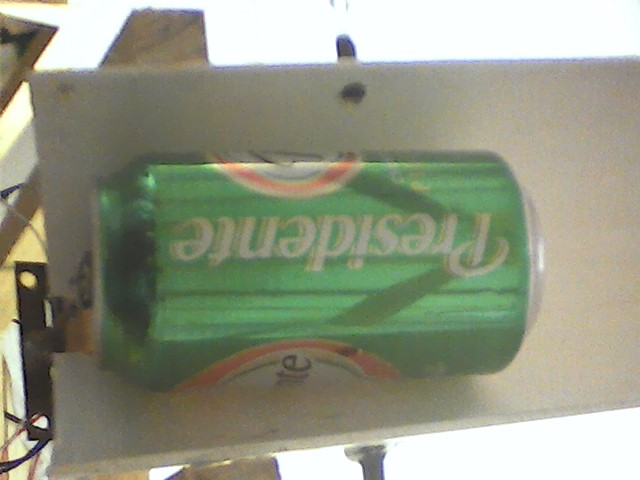lata: (79, 140, 548, 405)
